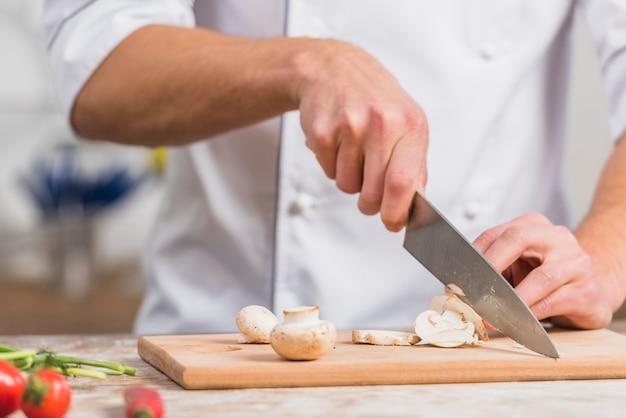knife: (404, 185, 560, 360)
